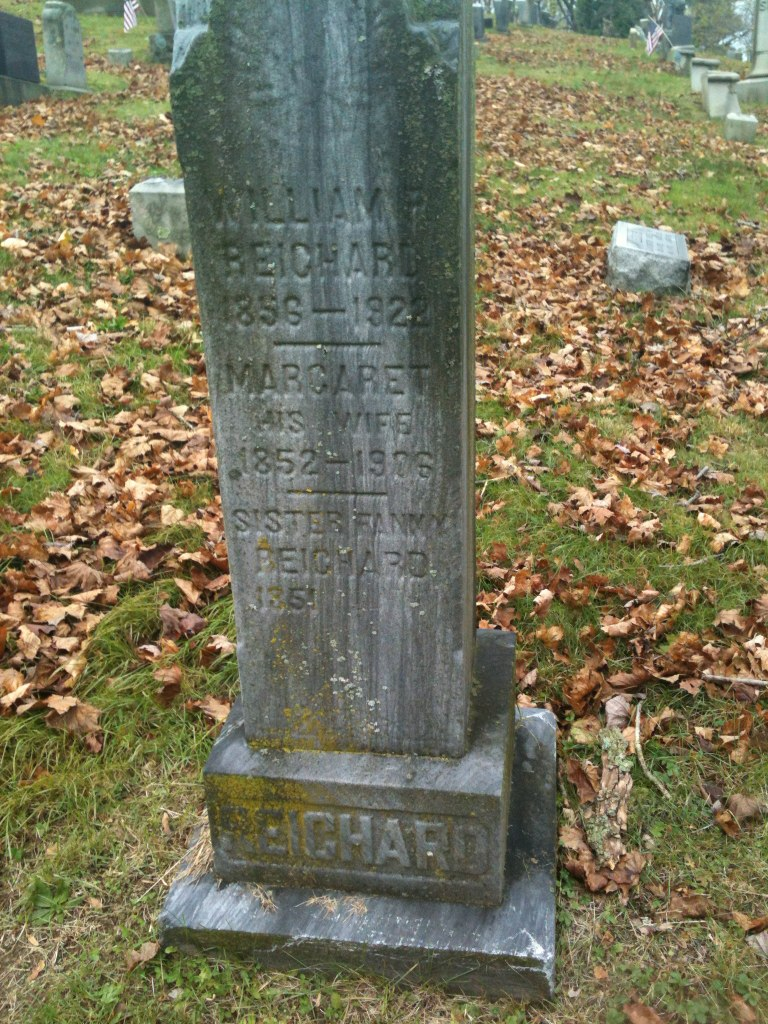upright: (130, 9, 620, 1002)
